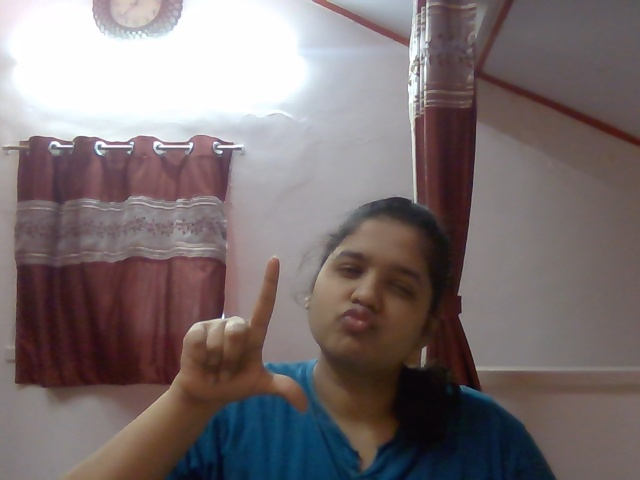l: (172, 248, 315, 426)
